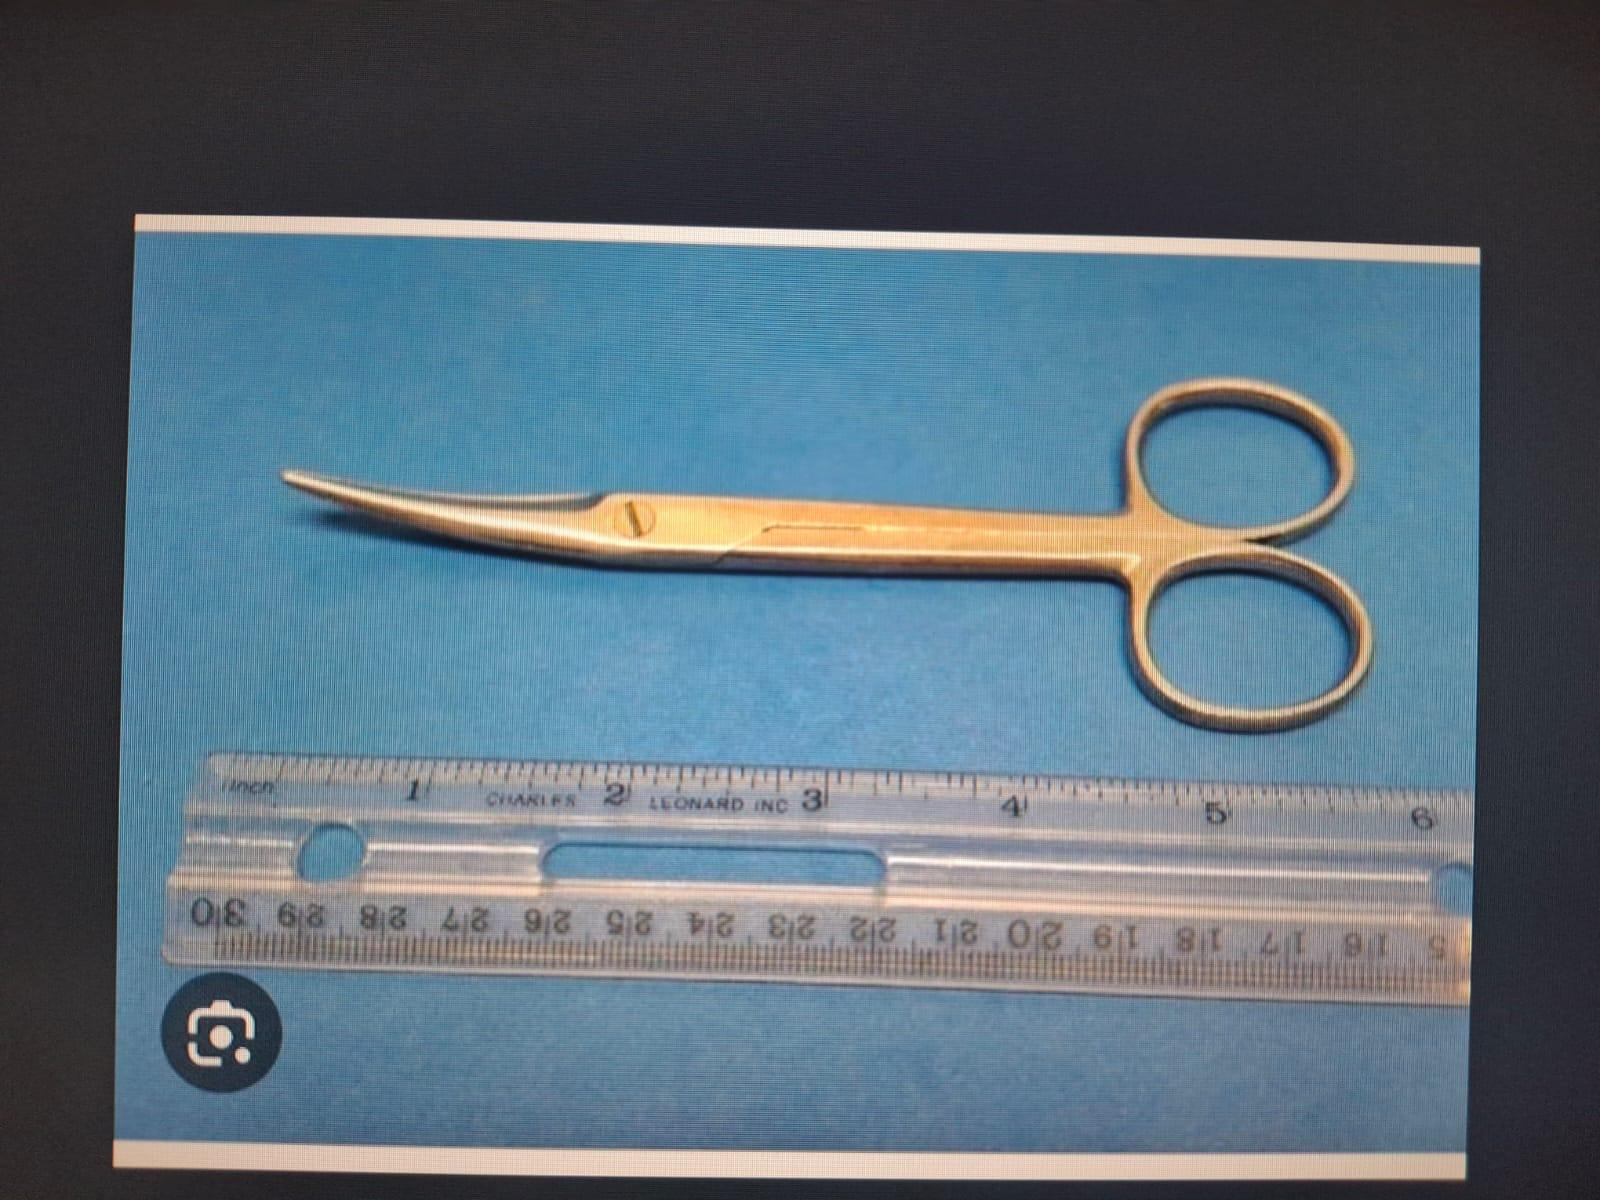Curved Mayo: (273, 361, 1390, 754)
